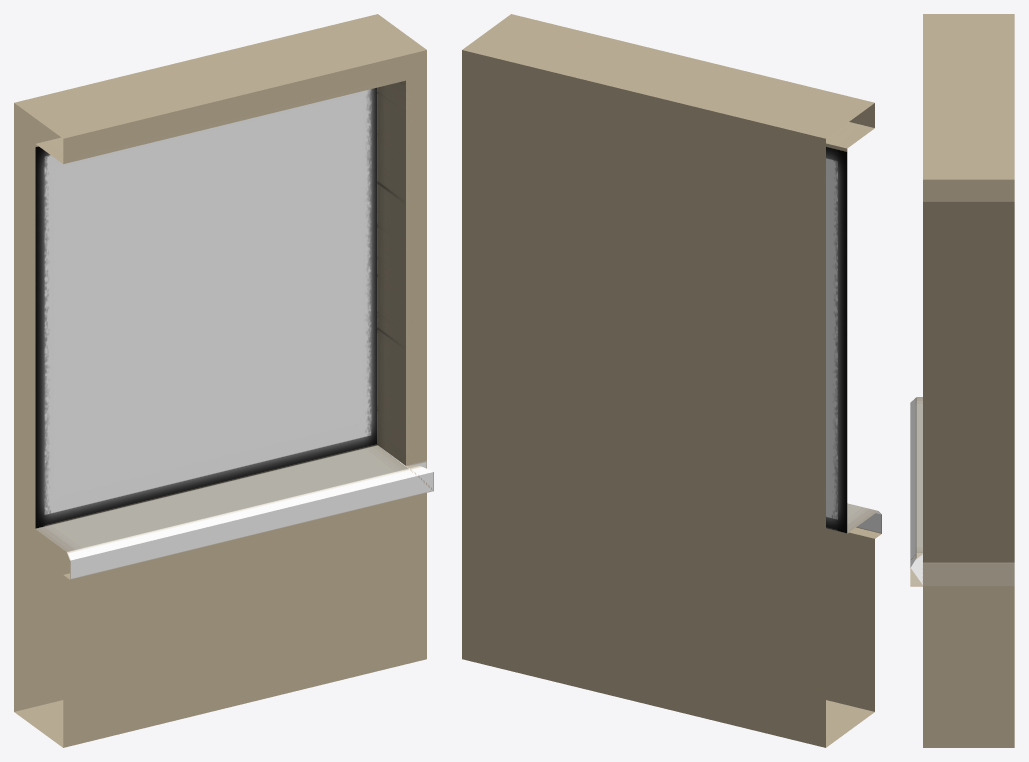
File: welcome_room_window.fbx
3 views of the same model, side by side, from view 1: azimuth 30°, elevation 25°; view 2: azimuth 150°, elevation 25°; view 3: azimuth 270°, elevation 25° (orthographic). The views are drawn at different scales.
Parts seen in each view (by area): view 1: window; view 2: window; view 3: window.
Boxes of the visible parts, left/top/right/bottom form: window: left=14, top=14, right=433, bottom=747; window: left=462, top=14, right=881, bottom=747; window: left=910, top=14, right=1014, bottom=747.
Size of the model in its own units: 1 by 1.6 by 0.2668.
Materials: 1 (1 with a texture image).
